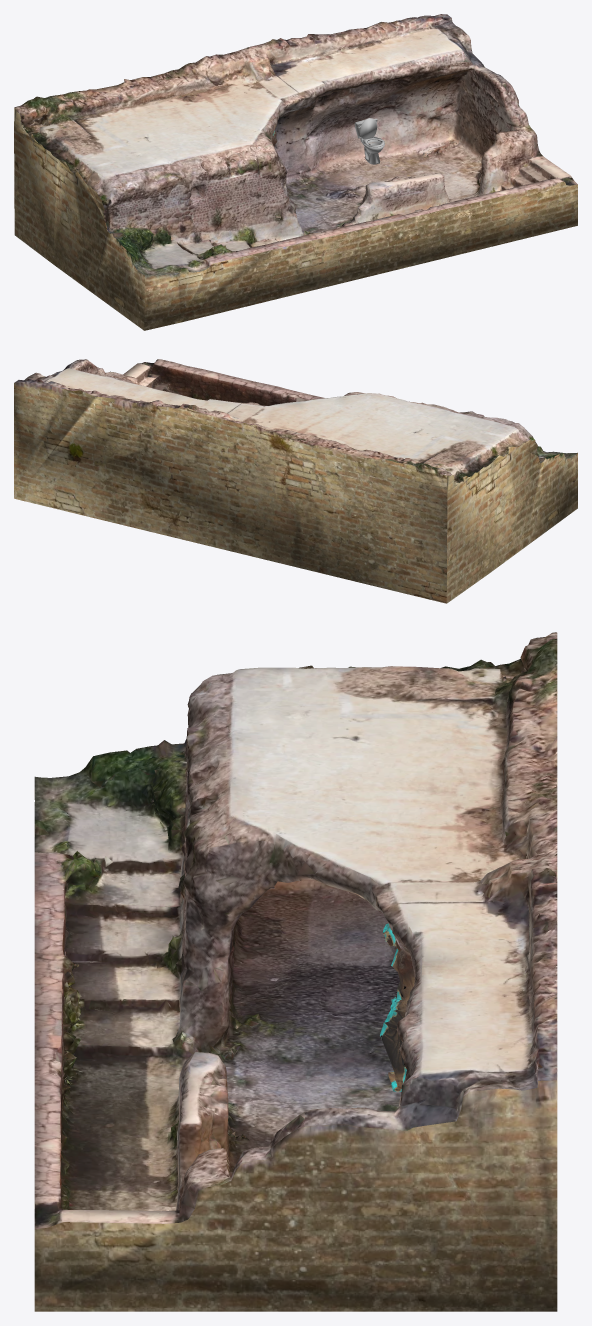
The model's file is cisterna.lod1.glb.
3 views of the same model, one above another, from view 1: azimuth 30°, elevation 25°; view 2: azimuth 150°, elevation 25°; view 3: azimuth 270°, elevation 25° (orthographic). The views are drawn at different scales.
Parts seen in each view (by area): view 1: cisterna; view 2: cisterna; view 3: cisterna.
Boxes of the visible parts, x1,y1,x2,y2 form: cisterna: (14, 14, 577, 330); cisterna: (14, 359, 577, 603); cisterna: (34, 632, 557, 1311).
Bounding box in the file's own units: 22.25 × 6.64 × 11.62.
4 materials, 4 textured.
